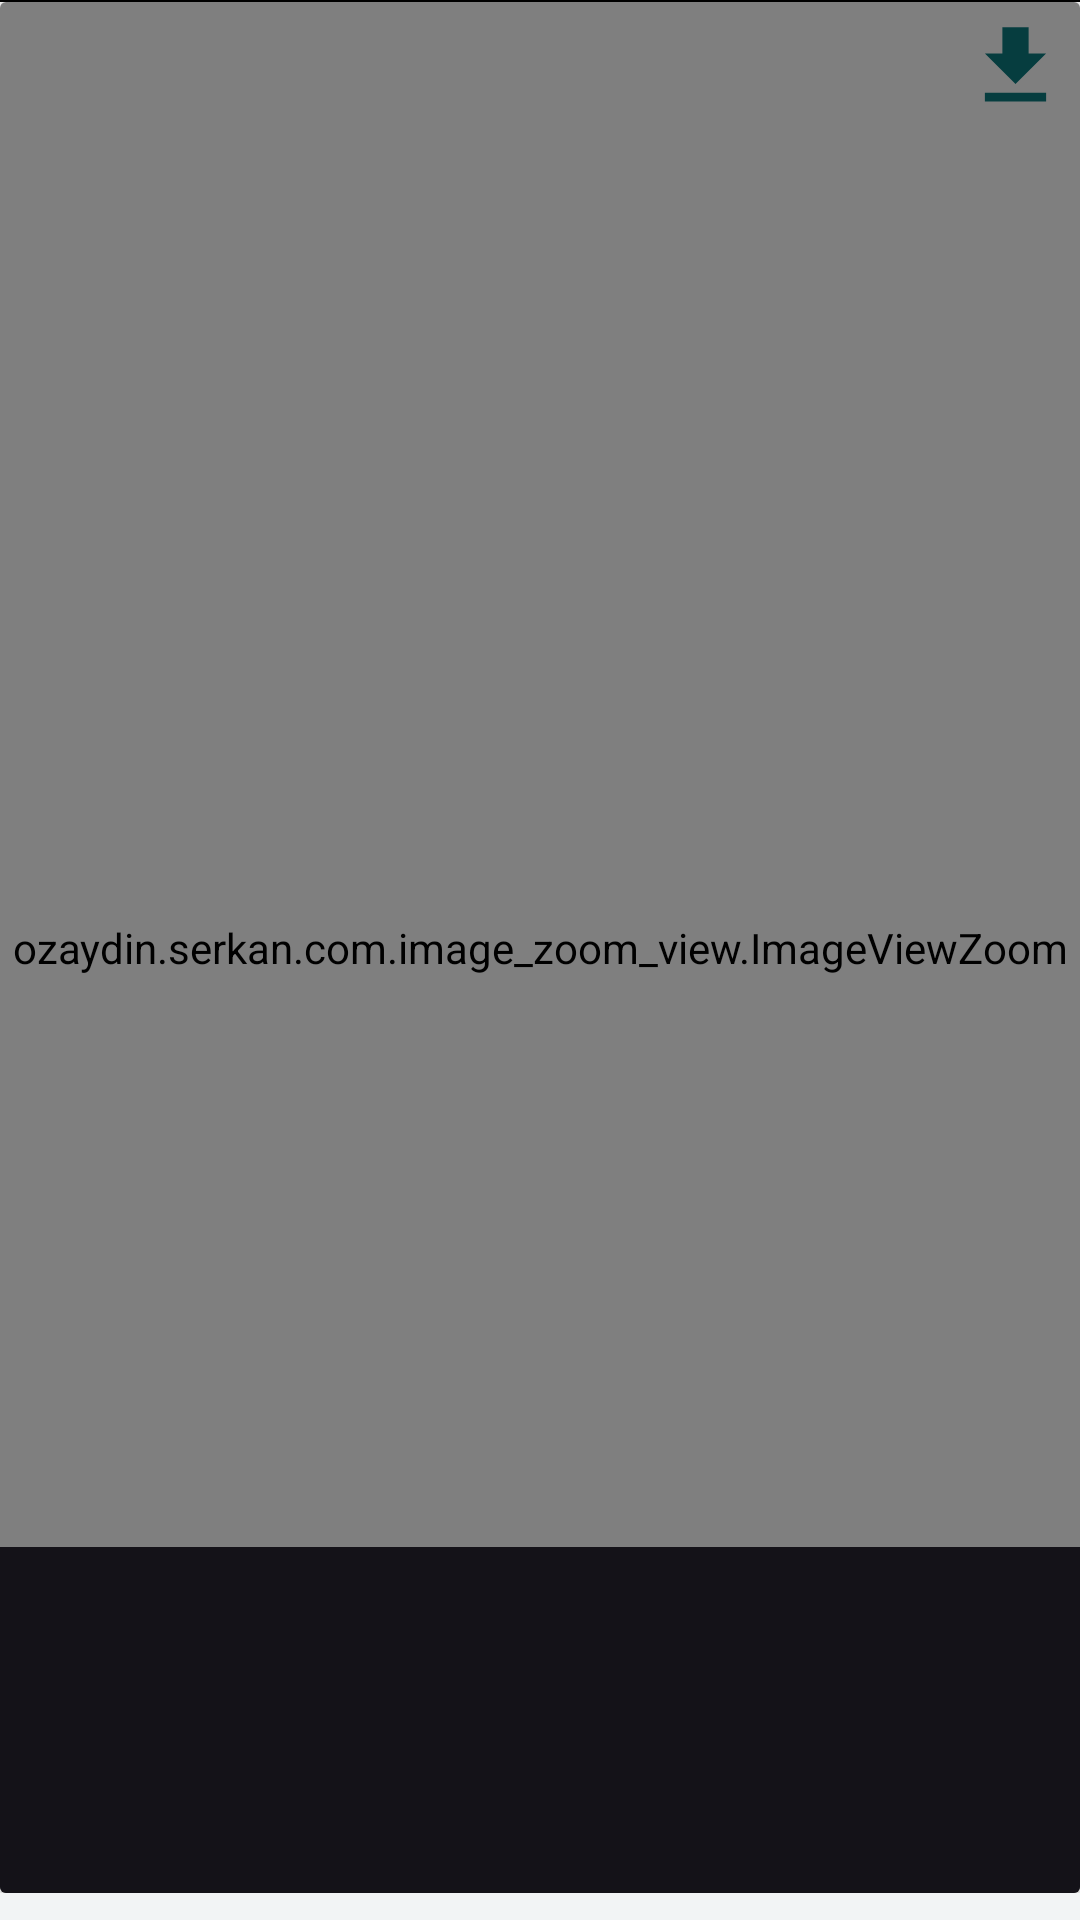

Icon bounding boxes for this 1080 x 1920 phone screenshot, format (x1, y1, x2, y2):
file download: (985, 27, 1046, 102)
